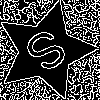S: (20, 26, 78, 83)
